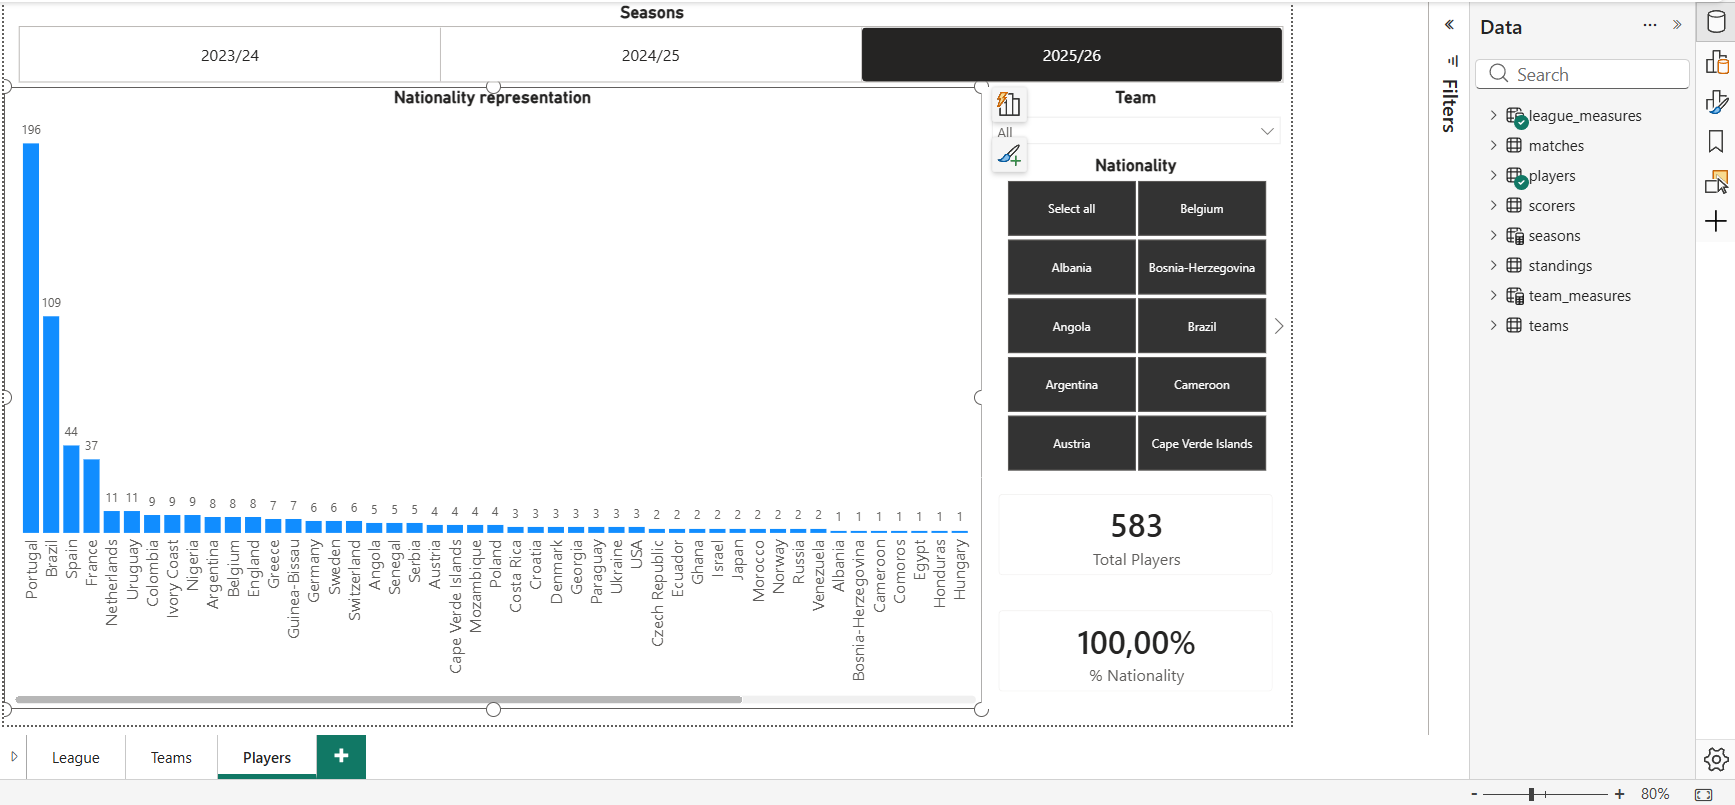

What the dashboard file says about the page in this screenshot:
{"tool":"powerbi","page":{"name":"Players","canvas":[1280,720],"ordinal":2},"visuals":[{"type":"clusteredColumnChart","title":"Nationality representation","fields":{"Category":["players.nationality"],"Y":["league_measures.Players by Nationality"]},"box":[0,85.1,972.4,618.9],"z":0},{"type":"advancedSlicerVisual","title":"Seasons","fields":{"Values":["seasons.season_label"]},"box":[9.9,0,1270.1,85.8],"z":1},{"type":"cardVisual","fields":{"Data":["league_measures.Total Players"]},"box":[972.4,473.2,307.3,115.4],"z":2},{"type":"cardVisual","fields":{"Data":["league_measures.Players % by Nationality"]},"box":[972.4,588.6,307.3,115.4],"z":3},{"type":"slicer","title":"Nationality","fields":{"Values":["players.nationality"]},"box":[972.4,151.5,307.3,321.7],"z":4},{"type":"slicer","title":"Team","fields":{"Values":["players.team_name"]},"box":[972.4,85.1,307.3,66.4],"z":5}]}

Visuals, with their boxes on the page's 1280x720 design canvas (x1, y1, x2, y2). These are canvas units, not pixel positions in the 1735x805 screenshot, which may show the page scaled, cropped or inside an application window:
"Nationality representation" clusteredColumnChart: <bbox>0, 85, 972, 704</bbox>
"Seasons" advancedSlicerVisual: <bbox>10, 0, 1280, 86</bbox>
cardVisual - league_measures.Total Players: <bbox>972, 473, 1280, 589</bbox>
cardVisual - league_measures.Players % by Nationality: <bbox>972, 589, 1280, 704</bbox>
"Nationality" slicer: <bbox>972, 152, 1280, 473</bbox>
"Team" slicer: <bbox>972, 85, 1280, 152</bbox>
